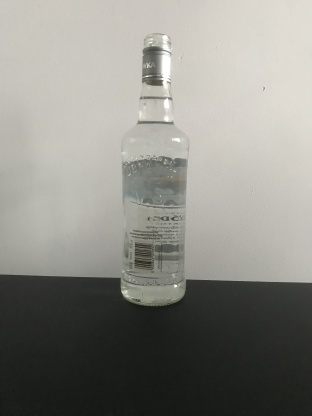nakretka: (140, 31, 173, 86)
